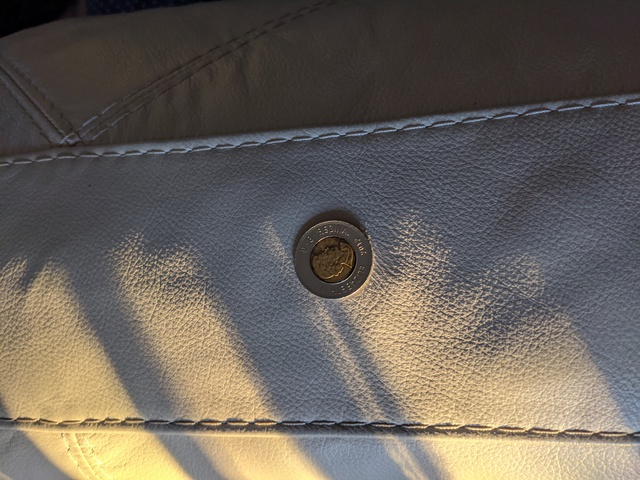twonie: (287, 213, 378, 298)
